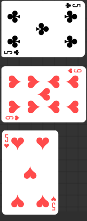5H: (4, 133, 11, 149), (50, 195, 57, 211)
9H: (67, 67, 83, 74)
